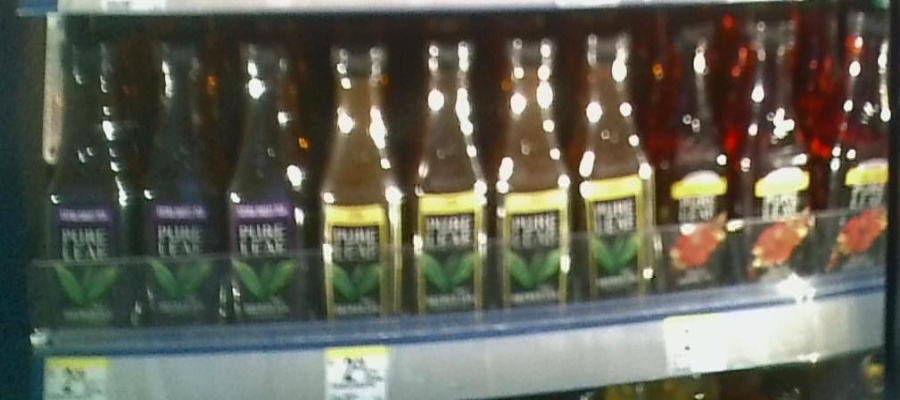bottle: (42, 34, 136, 337), (310, 45, 404, 336), (407, 30, 490, 336), (139, 35, 220, 336), (730, 12, 813, 296), (494, 33, 574, 327), (222, 44, 303, 332), (577, 25, 655, 322), (822, 2, 897, 284), (659, 24, 726, 301)
